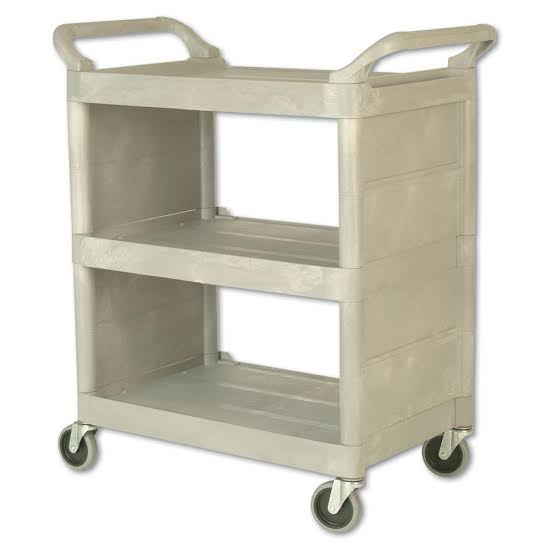Carts: (54, 16, 497, 533)
